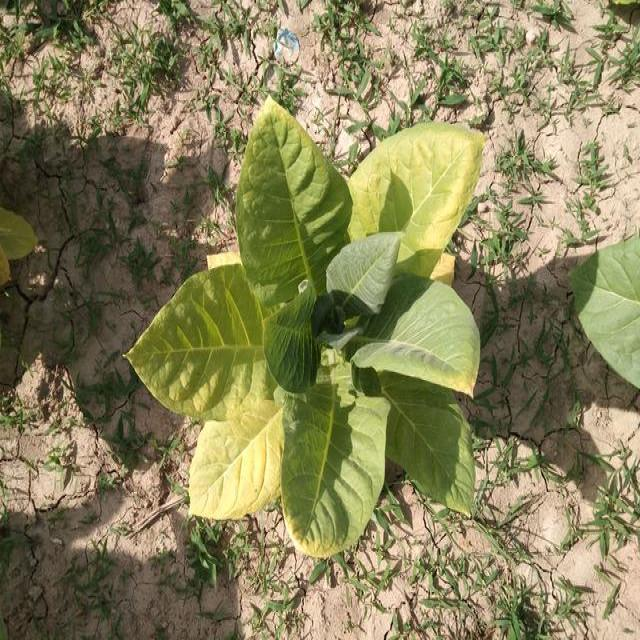crop: (118, 104, 494, 562)
